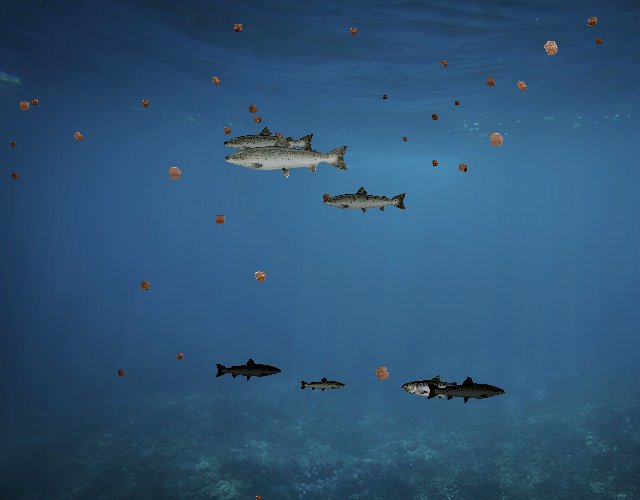Fish: (222, 133, 351, 179), (222, 126, 316, 160), (322, 185, 408, 216), (426, 375, 507, 405), (403, 375, 476, 401), (214, 357, 282, 382), (299, 377, 346, 393)
Pellet: (248, 264, 273, 289), (345, 23, 362, 40), (172, 349, 187, 364), (114, 366, 128, 380), (428, 156, 442, 170), (28, 95, 42, 109), (252, 493, 264, 500)
